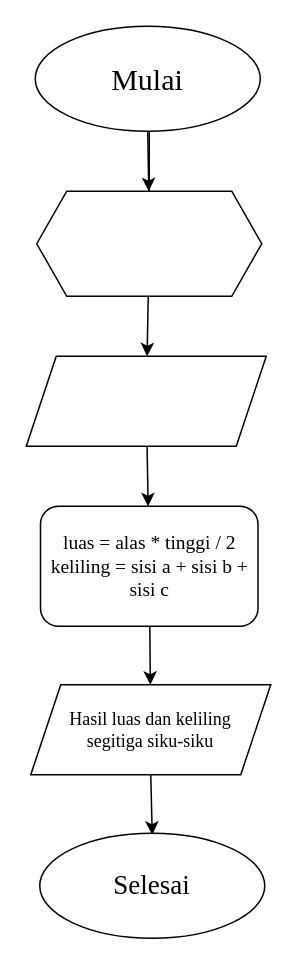
This 297x965 diagram has some shape labels left out. The centre of each missing label's shape, as x and y in pixels:
"input alas, tinggi, sisi a, sisi b, sisi c" belongs at pixel 145 400.
"int, alas, tinggi, sisi, luas, keliling" belongs at pixel 148 243.
